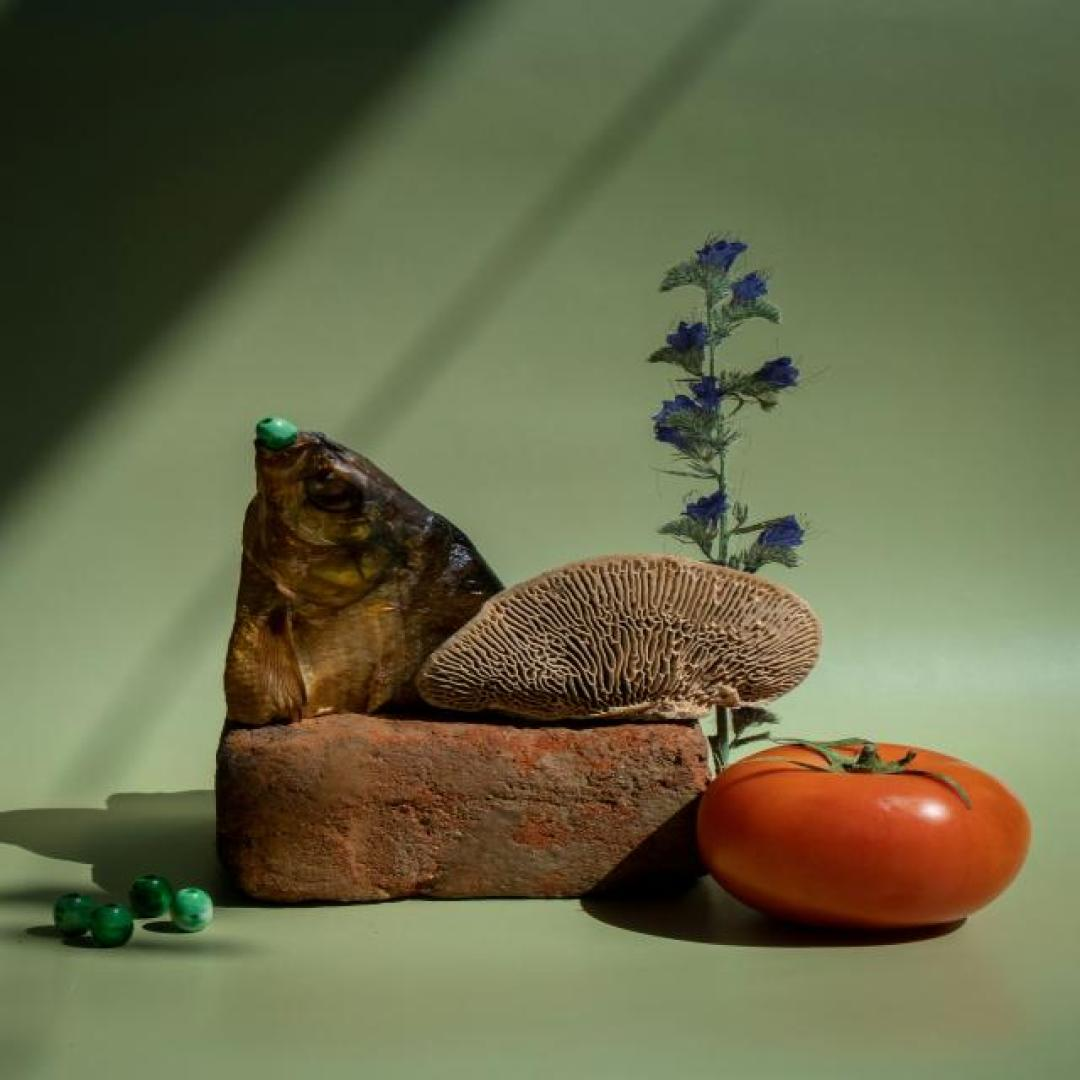matang: (698, 741, 1030, 931)
